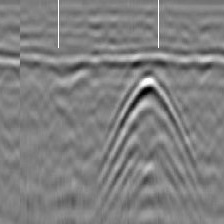Utility: (106, 70, 197, 199)
